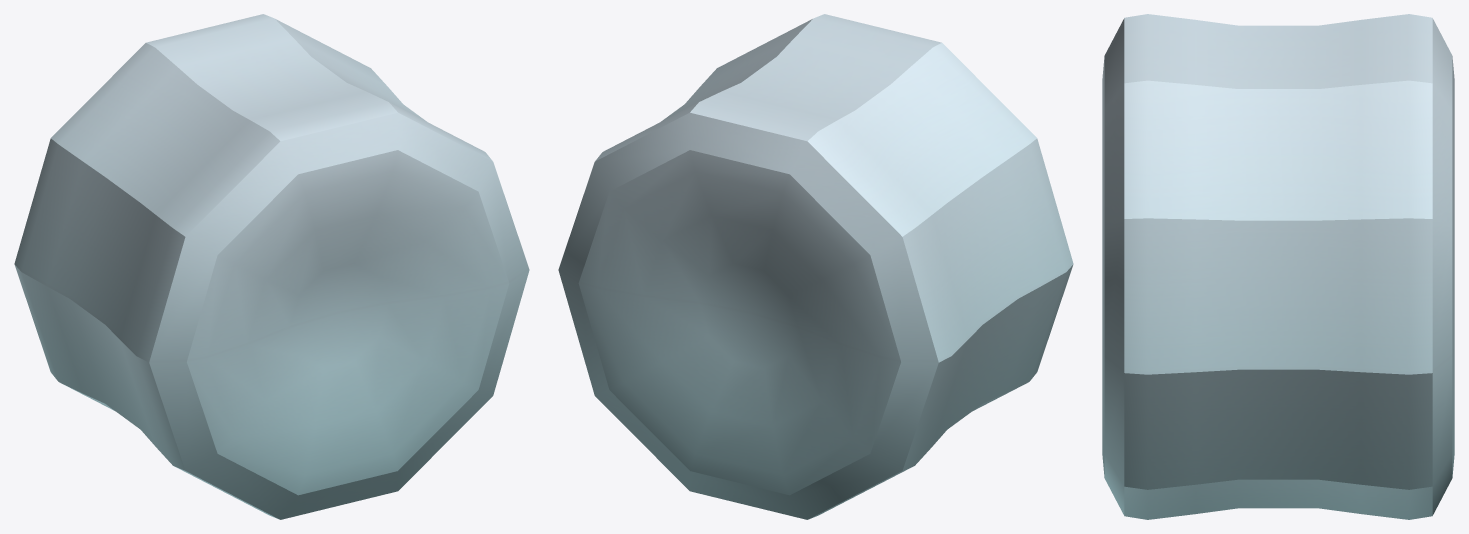
Rendered from HPart_MallowBlue_Whole.fbx.
3 views of the same model, side by side, from view 1: azimuth 30°, elevation 25°; view 2: azimuth 150°, elevation 25°; view 3: azimuth 270°, elevation 25° (orthographic). The views are drawn at different scales.
Parts seen in each view (by area): view 1: mallow1; view 2: mallow1; view 3: mallow1.
Part boxes in pixels (x1,y1,x2,y2): mallow1: [14, 14, 529, 519]; mallow1: [558, 14, 1073, 519]; mallow1: [1102, 14, 1454, 519].
Size of the model in its own units: 0.5883 by 0.5595 by 0.4069.
